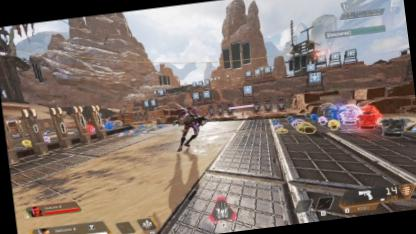Target: (174, 103, 204, 152)
